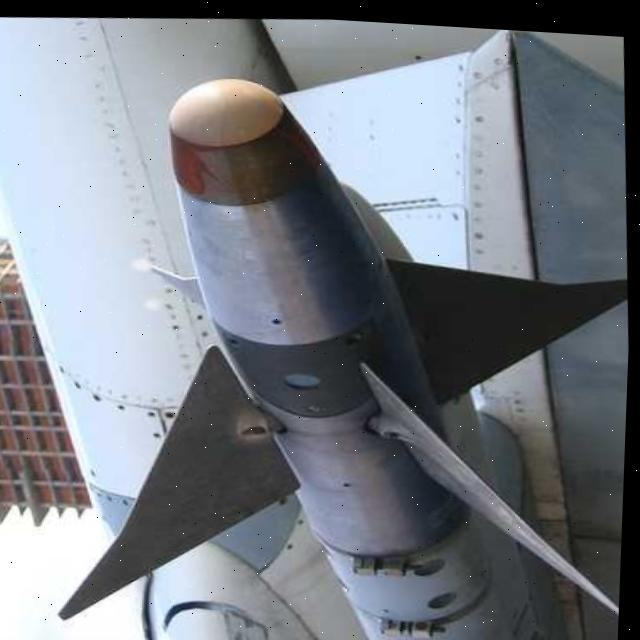missile: (28, 52, 639, 640)
